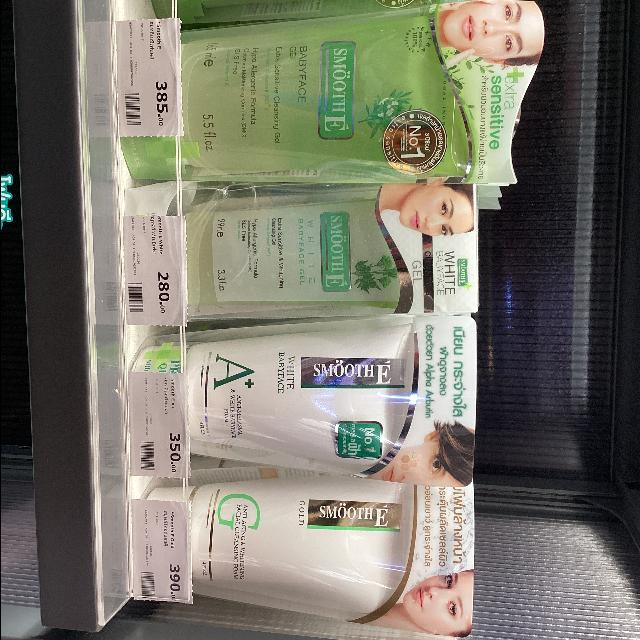Squeeze Tube: (106, 0, 542, 640), (144, 325, 521, 480), (129, 17, 497, 174), (150, 482, 473, 636), (170, 193, 518, 326)
